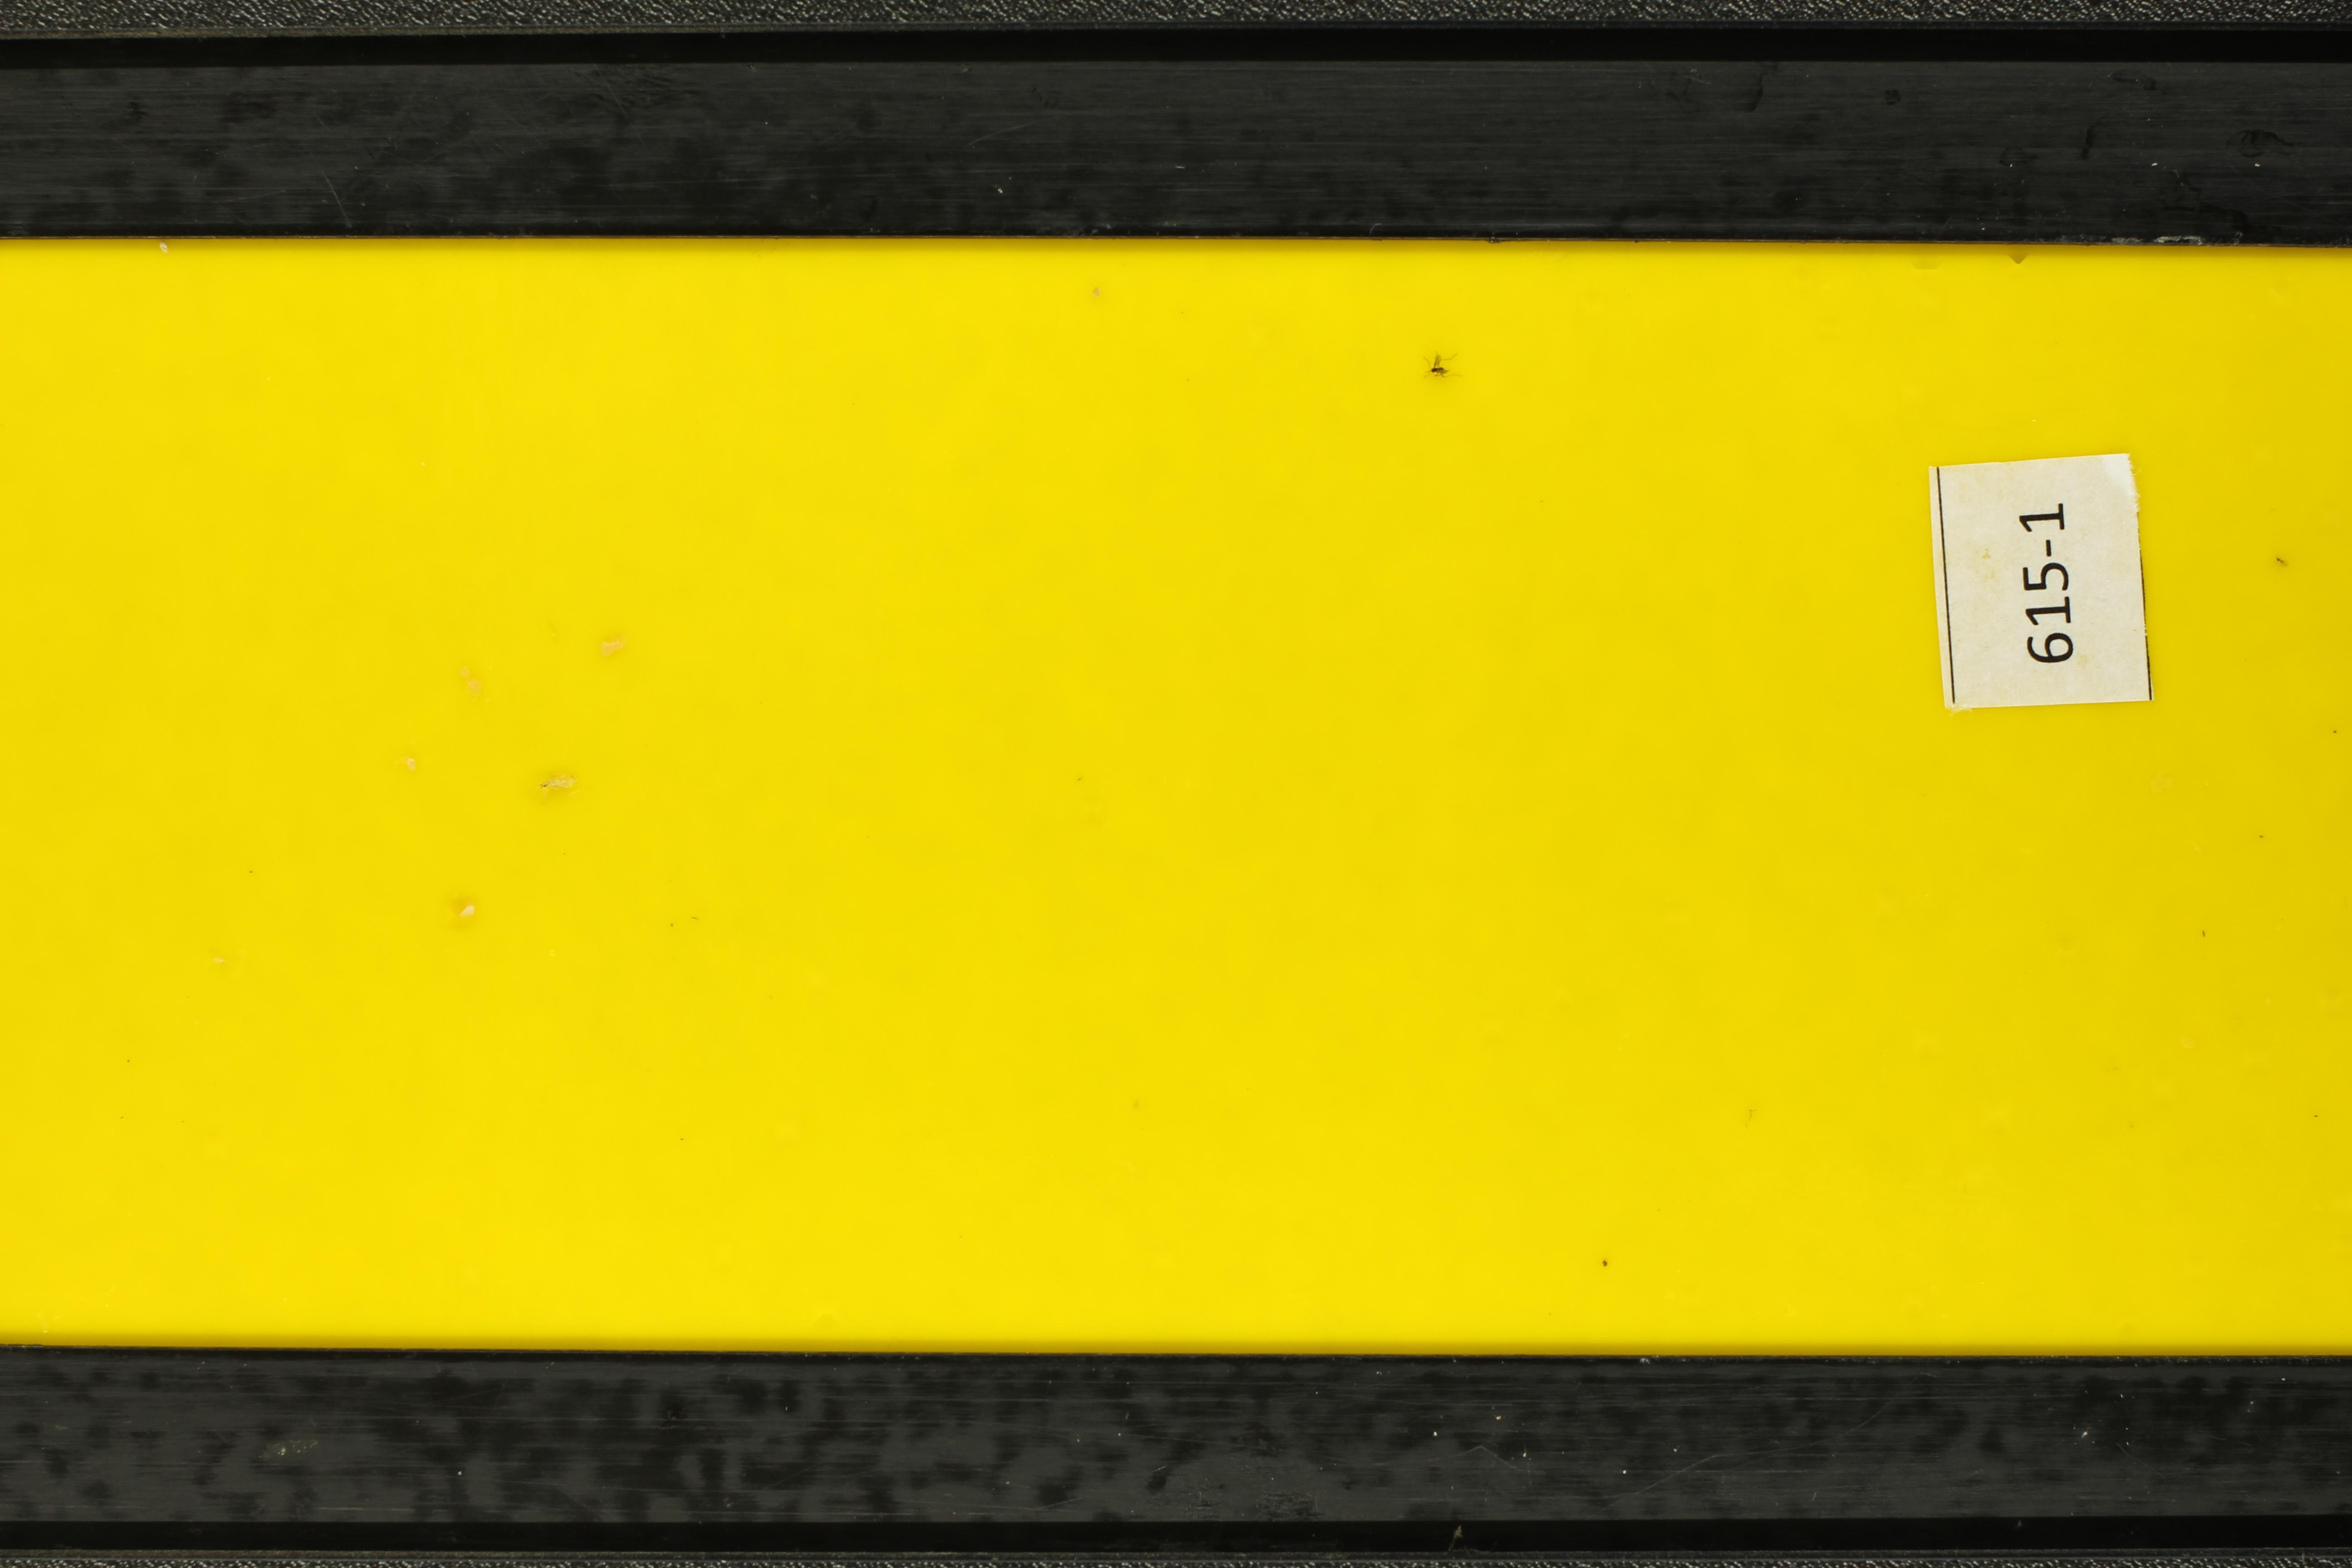WF: (1977, 1101, 2016, 1130), (1909, 1027, 1944, 1057), (2149, 1074, 2179, 1104), (810, 1300, 843, 1326), (1872, 891, 1902, 919), (1957, 1164, 1986, 1192), (773, 1118, 803, 1144), (1901, 382, 1928, 408), (203, 1134, 229, 1162), (1661, 905, 1692, 927), (2240, 1048, 2271, 1071), (2326, 1190, 2352, 1216), (1901, 1290, 1928, 1314), (1148, 1248, 1178, 1270), (2315, 991, 2345, 1013), (1908, 261, 1944, 278), (2249, 443, 2275, 467), (2317, 504, 2343, 528), (443, 903, 471, 926), (2182, 1258, 2212, 1279), (1246, 324, 1270, 348), (2270, 285, 2294, 310), (2006, 252, 2032, 275), (805, 966, 828, 992), (1479, 1017, 1505, 1040), (2053, 940, 2081, 961), (1920, 291, 1943, 315), (224, 959, 249, 982), (457, 1265, 481, 1288), (1580, 296, 1607, 317), (712, 1242, 733, 1269), (1678, 1288, 1705, 1309), (1080, 800, 1104, 821), (1790, 271, 1815, 291), (1552, 985, 1573, 1006), (1818, 320, 1843, 338), (2331, 1237, 2352, 1256), (2117, 1314, 2142, 1330), (203, 950, 222, 968)
